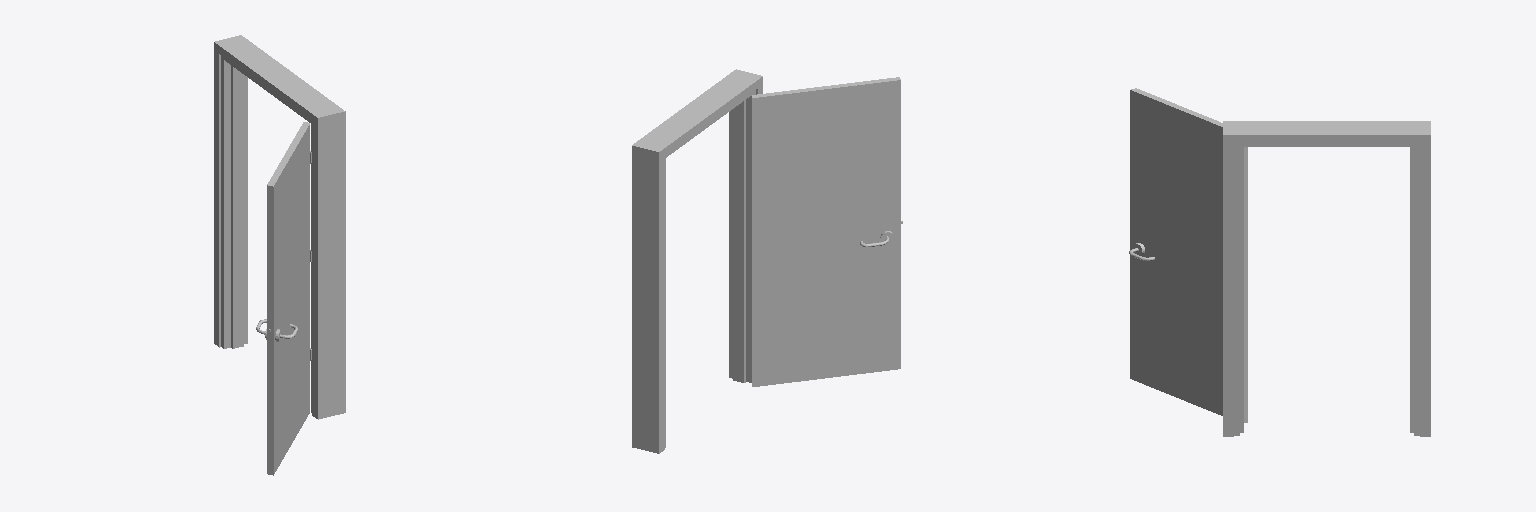
The model's file is doorLeft.obj.
3 views of the same model, side by side, from view 1: azimuth 30°, elevation 25°; view 2: azimuth 150°, elevation 25°; view 3: azimuth 270°, elevation 25° (orthographic).
Parts seen in each view (by area): view 1: door_Hinge_low_Cylinder.001; view 2: door_Hinge_low_Cylinder.001; view 3: door_Hinge_low_Cylinder.001.
Part boxes in pixels (x1,y1,x2,y2): door_Hinge_low_Cylinder.001: (214,35,345,475); door_Hinge_low_Cylinder.001: (632,69,902,453); door_Hinge_low_Cylinder.001: (1129,88,1430,436).
Size of the model in its own units: 0.8446 by 2 by 1.81.